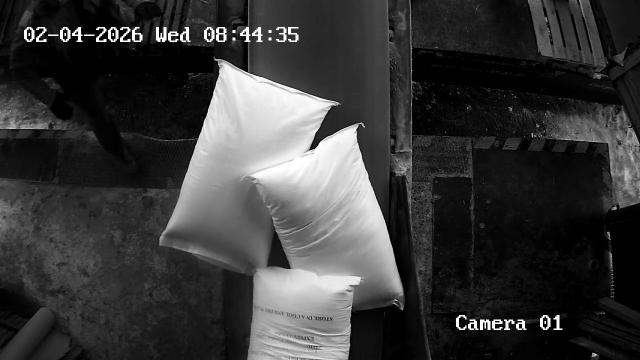bag: (160, 59, 340, 276), (246, 122, 404, 312), (248, 266, 361, 360)
